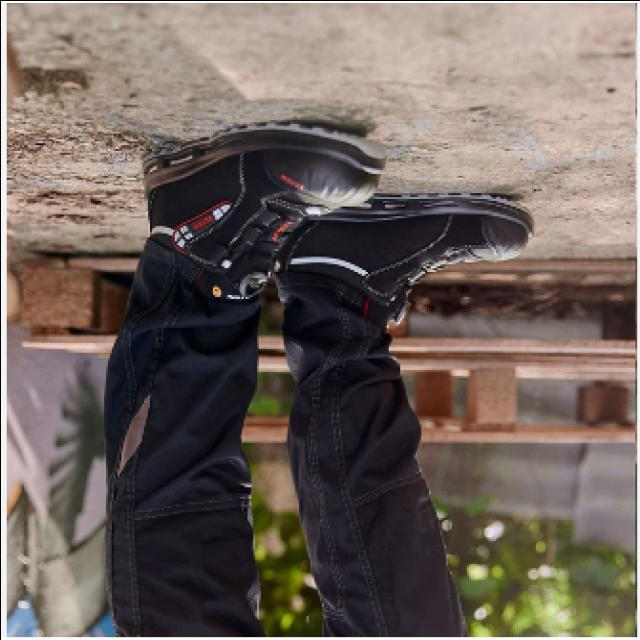boots: (131, 114, 541, 327)
